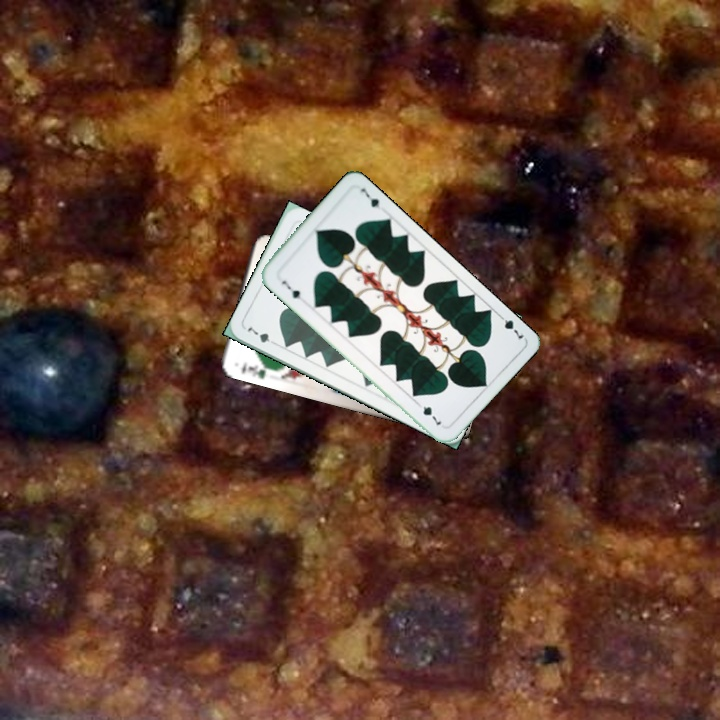G7: (494, 310, 526, 343), (243, 323, 280, 348), (277, 276, 303, 302)
GK: (238, 358, 274, 381)
